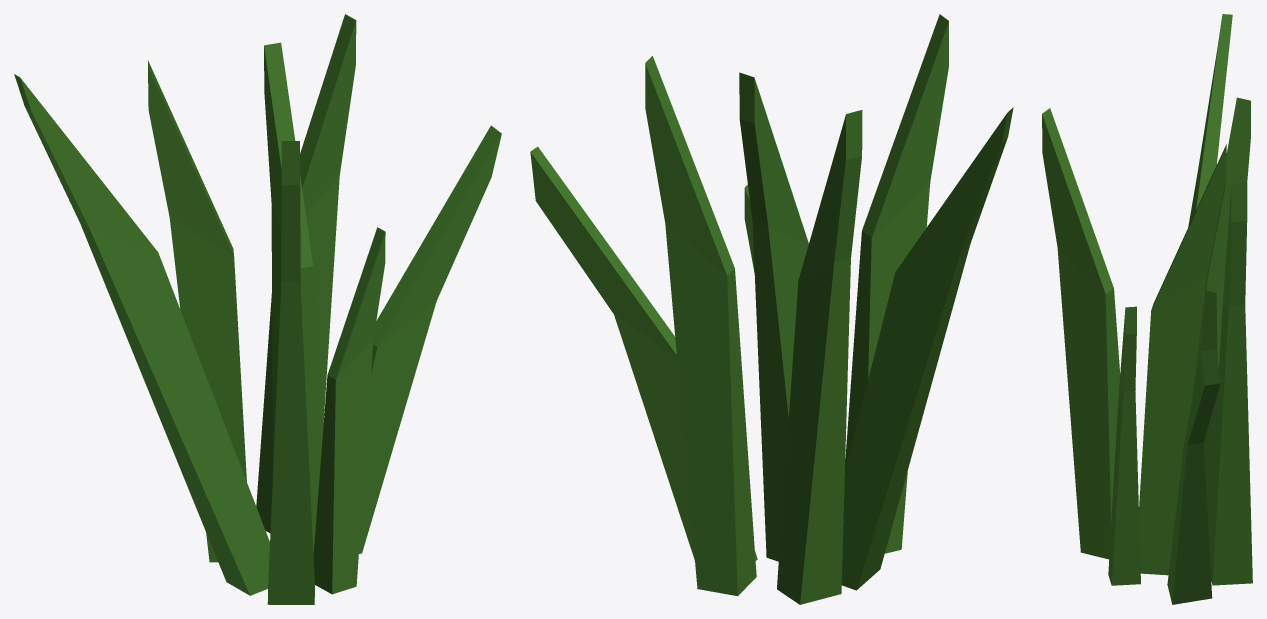
File: Grass.fbx
The picture shows the model from 3 angles, left to right: view 1: azimuth 30°, elevation 25°; view 2: azimuth 150°, elevation 25°; view 3: azimuth 270°, elevation 25°; orthographic projection. The views are drawn at different scales.
Parts seen in each view (by area): view 1: Grass; view 2: Grass; view 3: Grass.
Part boxes in pixels (<box>): Grass: <box>14,14,501,604</box>; Grass: <box>530,14,1013,604</box>; Grass: <box>1042,14,1252,604</box>.
Size of the model in its own units: 43.27 by 46.81 by 19.48.
